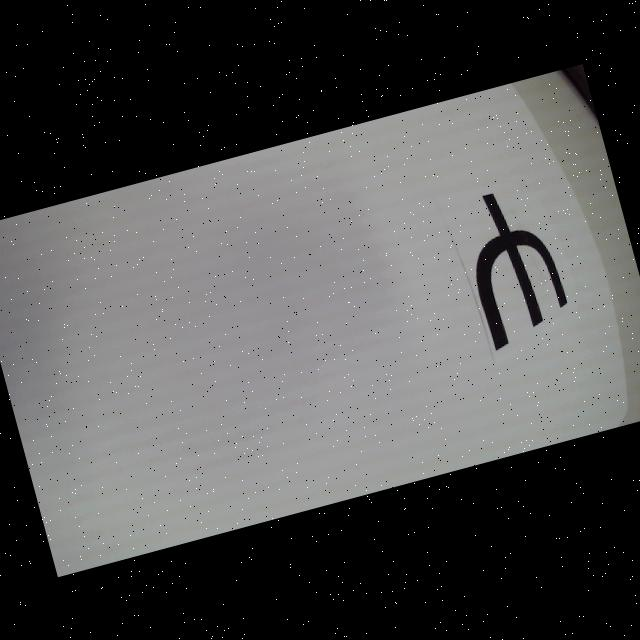PSI: (456, 180, 576, 351)
